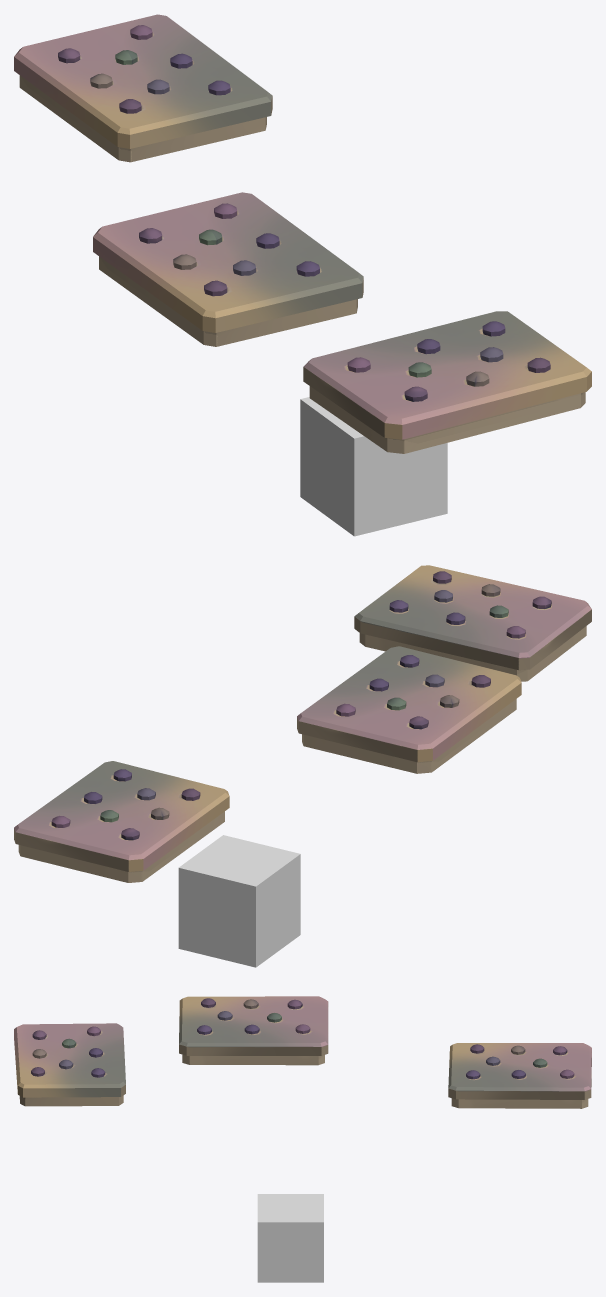
3 renders of one model, top to bottom at view 1: azimuth 30°, elevation 25°; view 2: azimuth 150°, elevation 25°; view 3: azimuth 270°, elevation 25°, orthographic. The views are drawn at different scales.
Visible parts, largest first — view 1: floor.003, floor.004, floor.002, home-floor001; view 2: floor.003, floor.004, floor.002, home-floor001; view 3: floor.003, floor.002, floor.004, home-floor001.
Part boxes in pixels (left/top/right/bottom): floor.003: left=93, top=192, right=363, bottom=346; floor.004: left=303, top=311, right=591, bottom=453; floor.002: left=14, top=14, right=272, bottom=162; home-floor001: left=300, top=397, right=447, bottom=536; floor.003: left=297, top=646, right=521, bottom=773; floor.004: left=354, top=565, right=591, bottom=681; floor.002: left=14, top=761, right=229, bottom=882; home-floor001: left=178, top=835, right=300, bottom=967; floor.003: left=179, top=996, right=328, bottom=1065; floor.002: left=448, top=1043, right=591, bottom=1108; floor.004: left=14, top=1023, right=125, bottom=1106; home-floor001: left=257, top=1194, right=323, bottom=1282.
Size of the model in its own units: 384 by 395 by 1026.
